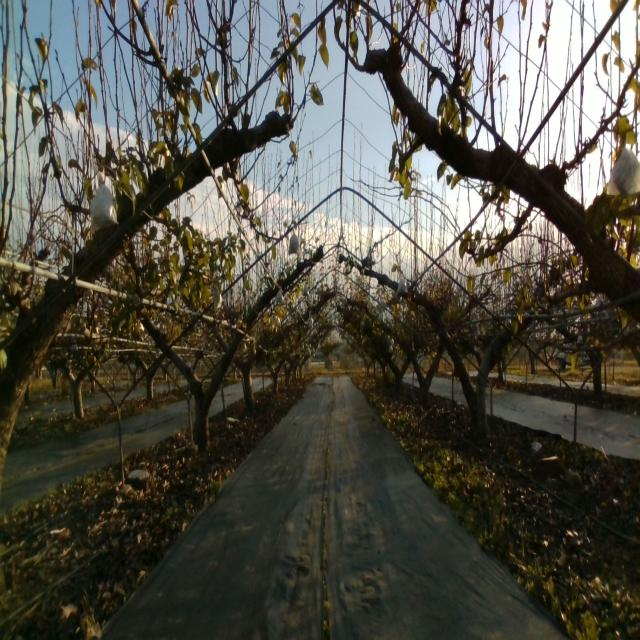pearbags: (89, 173, 119, 233), (605, 146, 640, 196), (287, 229, 301, 253), (396, 275, 409, 296)
